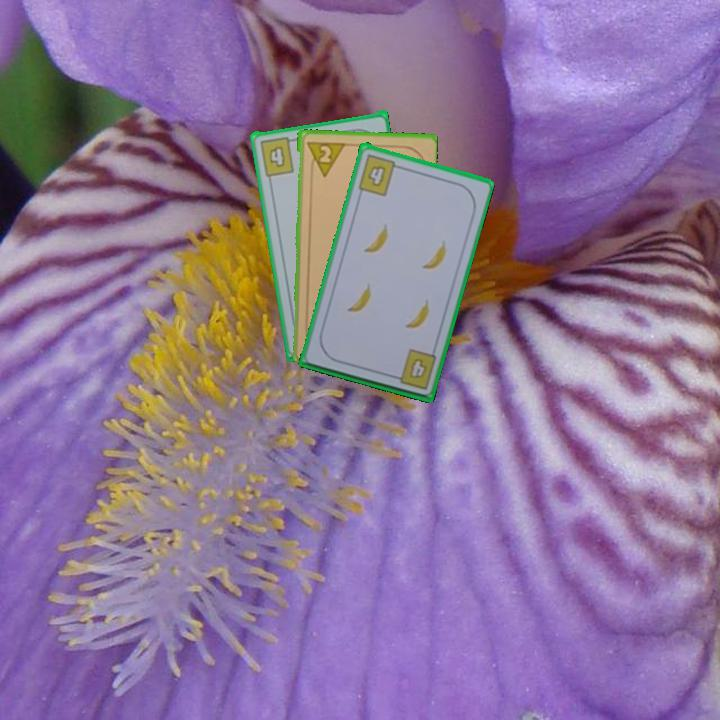2p: (302, 138, 346, 179)
4b: (354, 150, 404, 198), (256, 133, 300, 179), (405, 354, 430, 381)
